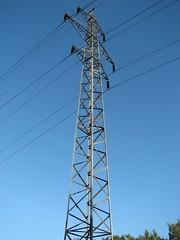power_tower: (54, 3, 122, 240)
